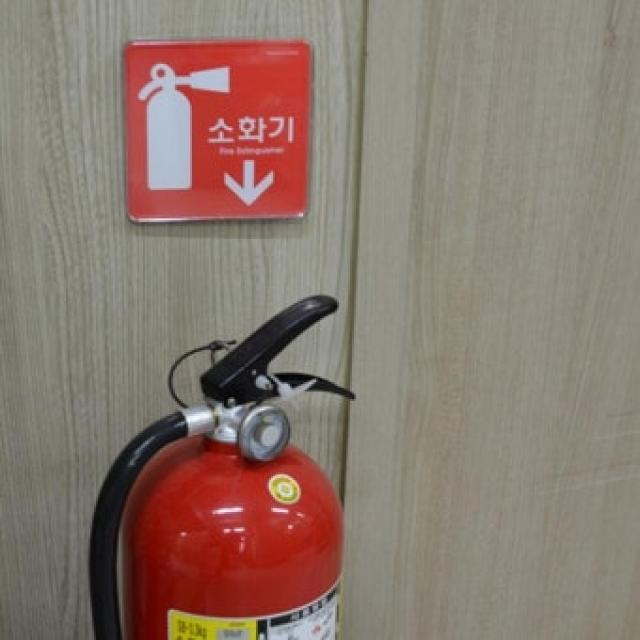pressure gauge: (239, 405, 288, 459)
